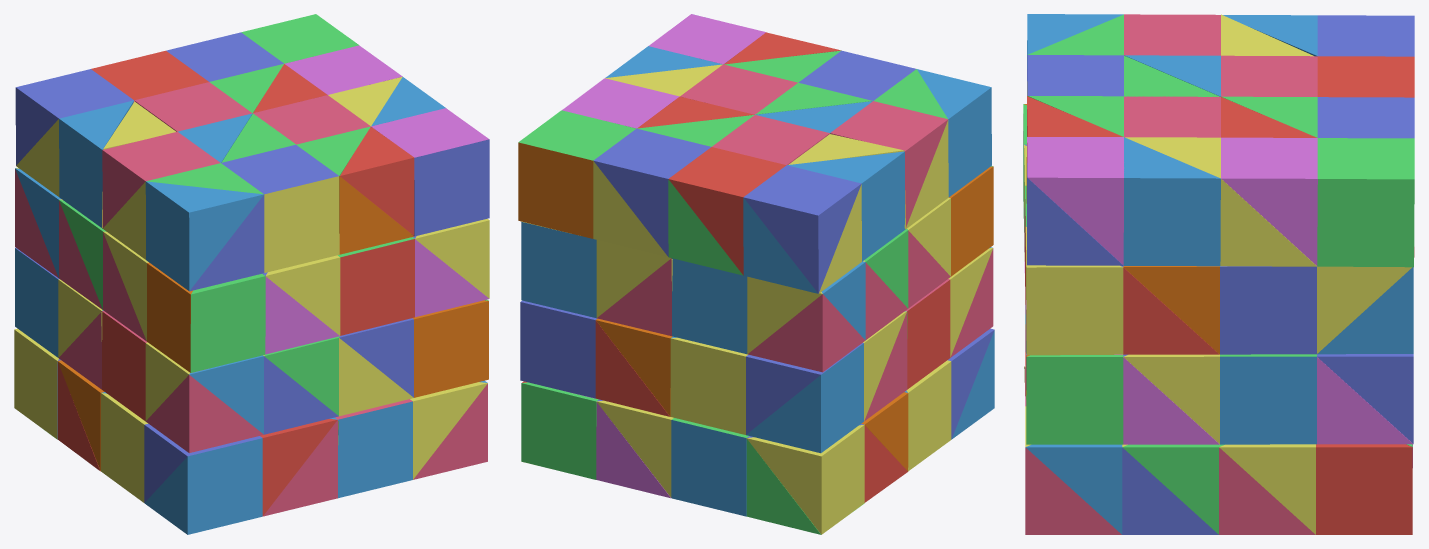
The picture shows the model from 3 angles, left to right: view 1: azimuth 30°, elevation 25°; view 2: azimuth 150°, elevation 25°; view 3: azimuth 270°, elevation 25°; orthographic projection. The views are drawn at different scales.
Parts seen in each view (by area): view 1: Cube.365, Cube.221, Cube.295, Cube.248, Cube.369, Cube.375, Cube.212, Cube.329, Cube.356, Cube.363, Cube.358, Cube.262 (+52 smaller); view 2: Cube.358, Cube.231, Cube.269, Cube.337, Cube.351, Cube.199, Cube.273, Cube.279, Cube.233, Cube.317, Cube.344, Cube.308 (+50 smaller); view 3: Cube.377, Cube.327, Cube.200, Cube.247, Cube.281, Cube.321, Cube.343, Cube.347, Cube.374, Cube.215, Cube.194, Cube.206 (+32 smaller).
Part boxes in pixels (x1,y1,x2,y2): Cube.365: (145,181,263,291); Cube.221: (144,438,262,534); Cube.295: (190,274,265,372); Cube.248: (412,300,488,397); Cube.369: (264,176,339,272); Cube.375: (414,139,489,236); Cube.212: (338,401,412,498); Cube.329: (340,239,414,335); Cube.356: (59,100,133,228); Cube.363: (102,131,220,228); Cube.358: (15,69,133,165); Cube.262: (146,375,263,452); Cube.358: (743,165,861,293); Cube.231: (746,424,864,534); Cube.269: (746,343,863,453); Cube.337: (593,128,710,256); Cube.351: (668,147,786,275); Cube.199: (521,382,598,479); Cube.273: (670,337,747,434); Cube.279: (520,300,595,398); Cube.233: (671,420,746,516); Cube.317: (521,222,596,318); Cube.344: (518,142,593,238); Cube.308: (672,258,747,354); Cube.377: (1123,137,1220,266); Cube.327: (1025,227,1123,355); Cube.200: (1316,444,1412,534); Cube.247: (1026,355,1123,444); Cube.281: (1220,356,1316,444); Cube.321: (1220,266,1316,354); Cube.343: (1317,179,1414,267); Cube.347: (1221,137,1317,265); Cube.374: (1027,137,1123,264); Cube.215: (1025,444,1122,534); Cube.194: (1219,444,1315,534); Cube.206: (1122,444,1218,534).
Size of the model in its own units: 807 by 820 by 808.
